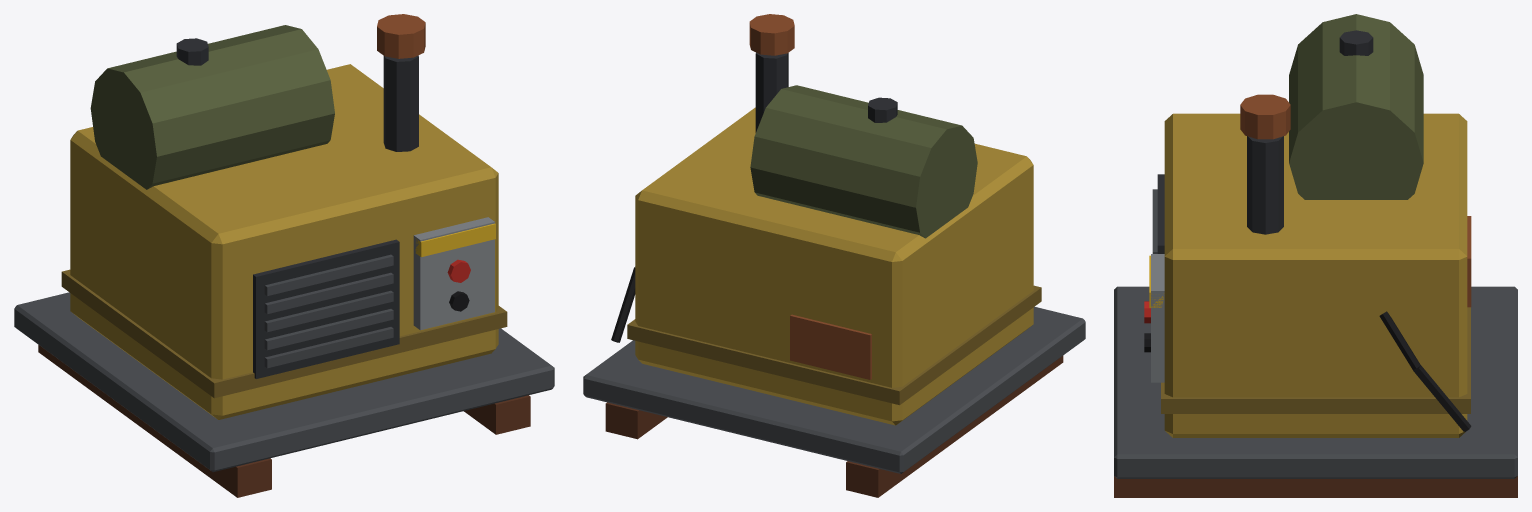
Rendered from piece_generator.fbx.
3 renders of one model, left to right at view 1: azimuth 30°, elevation 25°; view 2: azimuth 150°, elevation 25°; view 3: azimuth 270°, elevation 25°, orthographic. The views are drawn at different scales.
Parts seen in each view (by area): view 1: piece_generator; view 2: piece_generator; view 3: piece_generator.
Boxes of the visible parts, box(x1,y1,x2,y2) form: piece_generator: box(14, 14, 554, 497); piece_generator: box(583, 14, 1085, 497); piece_generator: box(1114, 14, 1517, 497).
Size of the model in its own units: 1.2 by 1.2 by 1.2.
